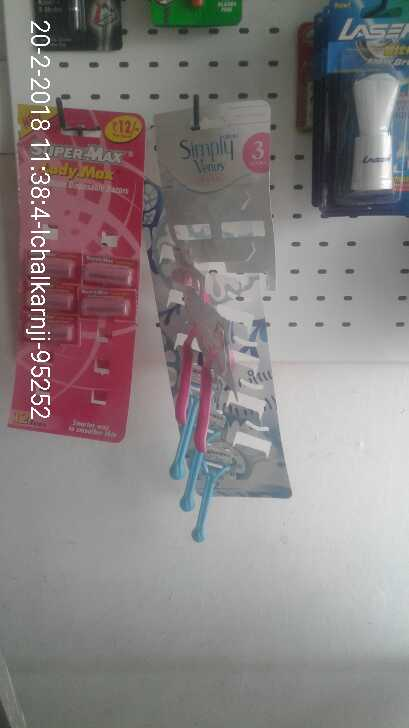reject: (95, 485, 176, 565)
